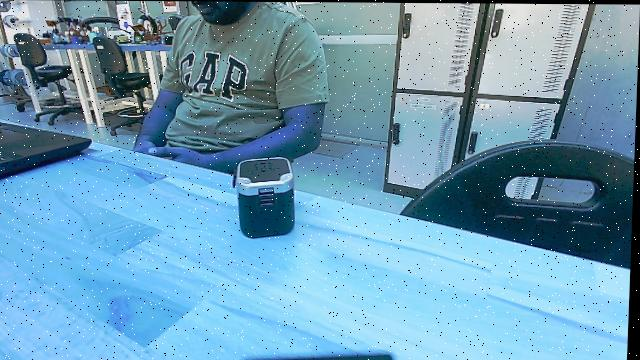adapter: (229, 154, 302, 241)
